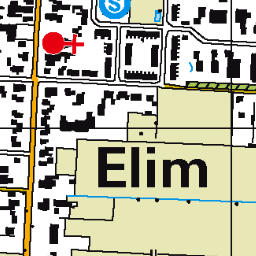church: (40, 30, 85, 58)
